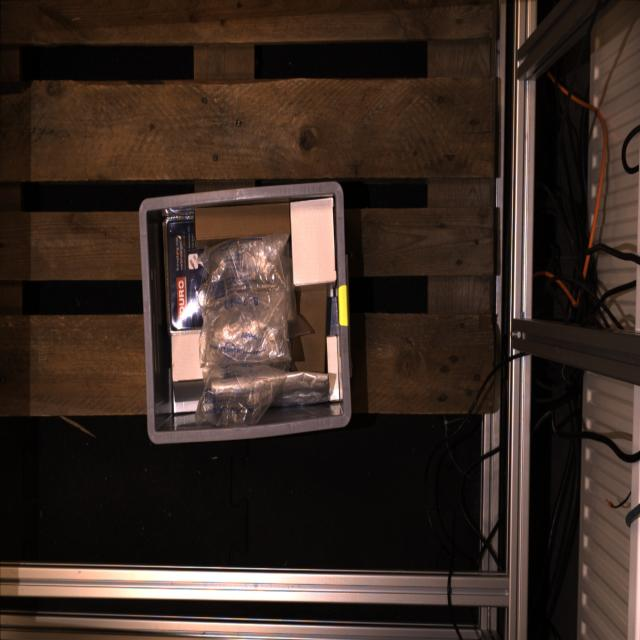CardboardBox: (289, 196, 336, 292), (194, 204, 290, 249), (292, 285, 327, 372), (171, 331, 204, 403), (327, 336, 339, 399), (174, 390, 199, 413)
ItemPackaging: (164, 210, 205, 330)
Package: (271, 373, 330, 406)
PackagingAirBags: (196, 234, 294, 427)
